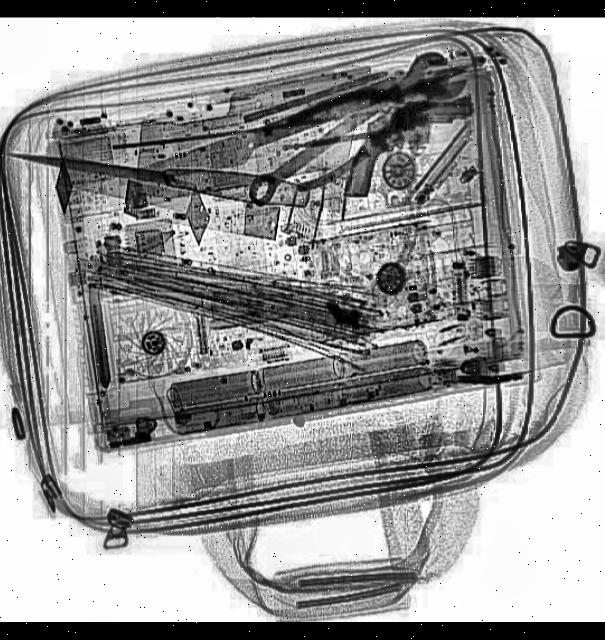Gun: (348, 87, 474, 202)
Knife: (94, 81, 404, 208), (11, 139, 310, 212)
Wrench: (238, 42, 461, 220)
